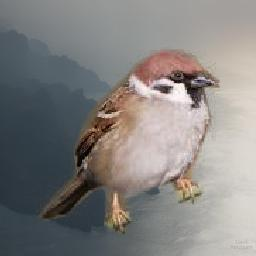Sparrow: (34, 48, 220, 235)
